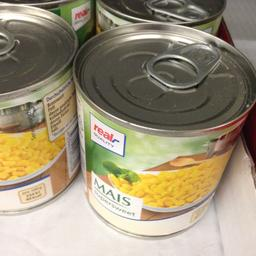corn: (70, 22, 255, 239), (0, 2, 77, 215)
